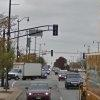Traffic light: (51, 17, 72, 41)
